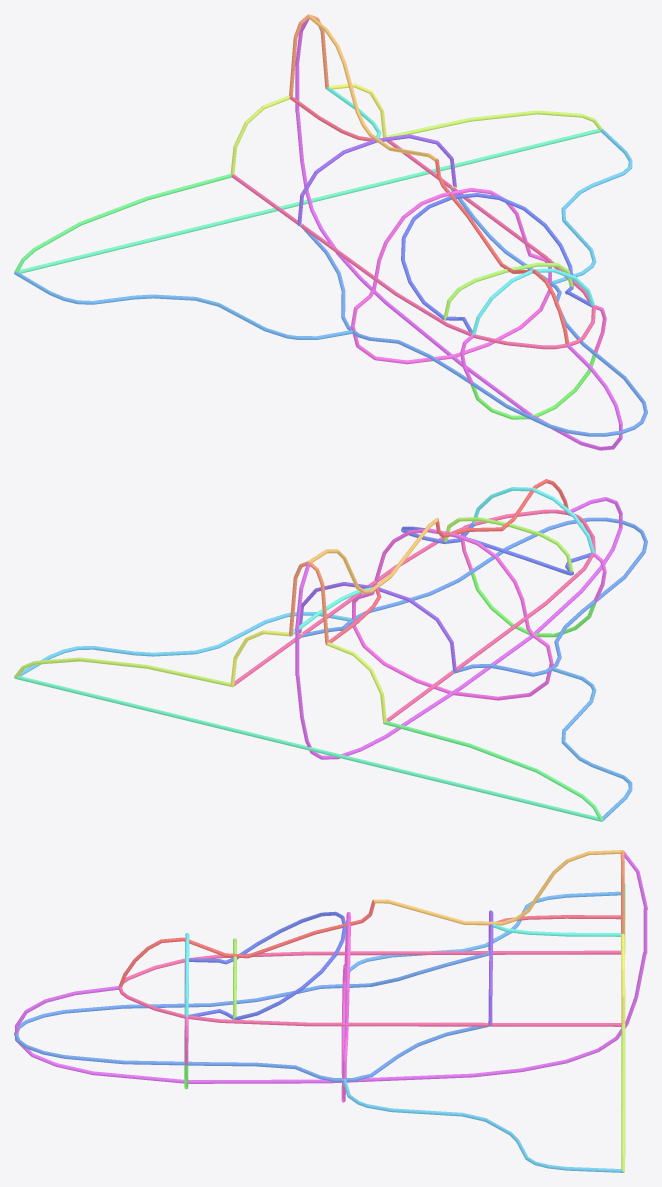
The model's file is t2f_fighter.gltf.
3 renders of one model, top to bottom at view 1: azimuth 30°, elevation 25°; view 2: azimuth 150°, elevation 25°; view 3: azimuth 270°, elevation 25°, orthographic. The views are drawn at different scales.
Bounding box in the file's own units: 0.6986 × 0.2724 × 0.6702.
